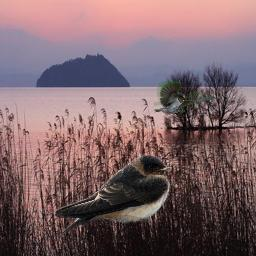Swallow: (54, 154, 172, 235), (154, 81, 215, 113)
